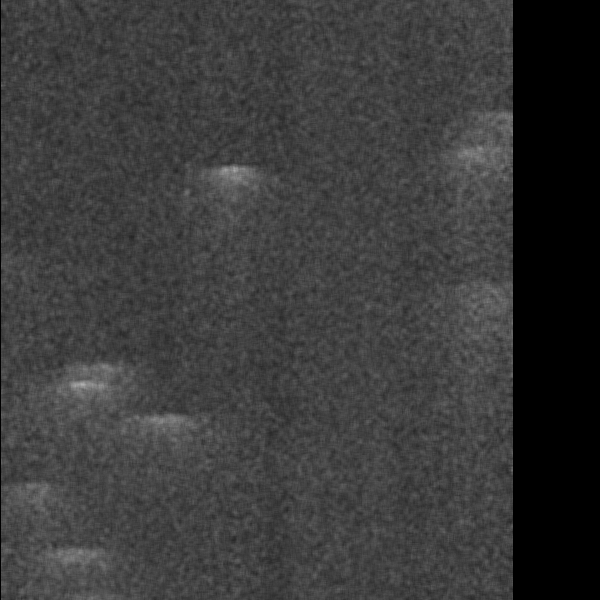spark: (454, 504, 516, 553), (244, 396, 277, 440), (44, 225, 74, 271)
